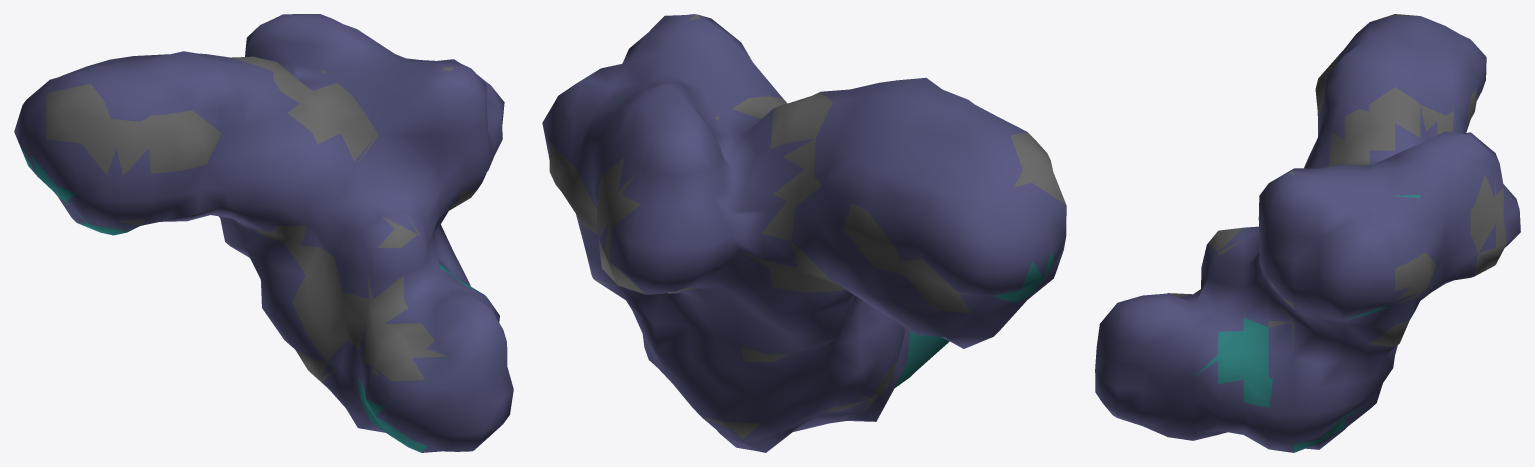
The model's file is sigma.obj.
3 renders of one model, left to right at view 1: azimuth 30°, elevation 25°; view 2: azimuth 150°, elevation 25°; view 3: azimuth 270°, elevation 25°, orthographic. The views are drawn at different scales.
Visible parts, largest first — view 1: vmd_mol6_rep0; view 2: vmd_mol6_rep0; view 3: vmd_mol6_rep0.
Boxes of the visible parts, x1,y1,x2,y2 form: vmd_mol6_rep0: (14,14,513,452); vmd_mol6_rep0: (542,14,1066,452); vmd_mol6_rep0: (1095,14,1520,452).
Size of the model in its own units: 1.51 by 1.16 by 1.37.
